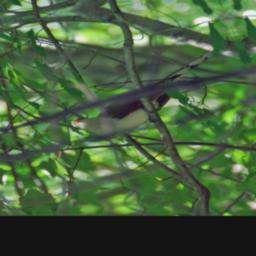Cuckoo: (45, 45, 248, 143)
